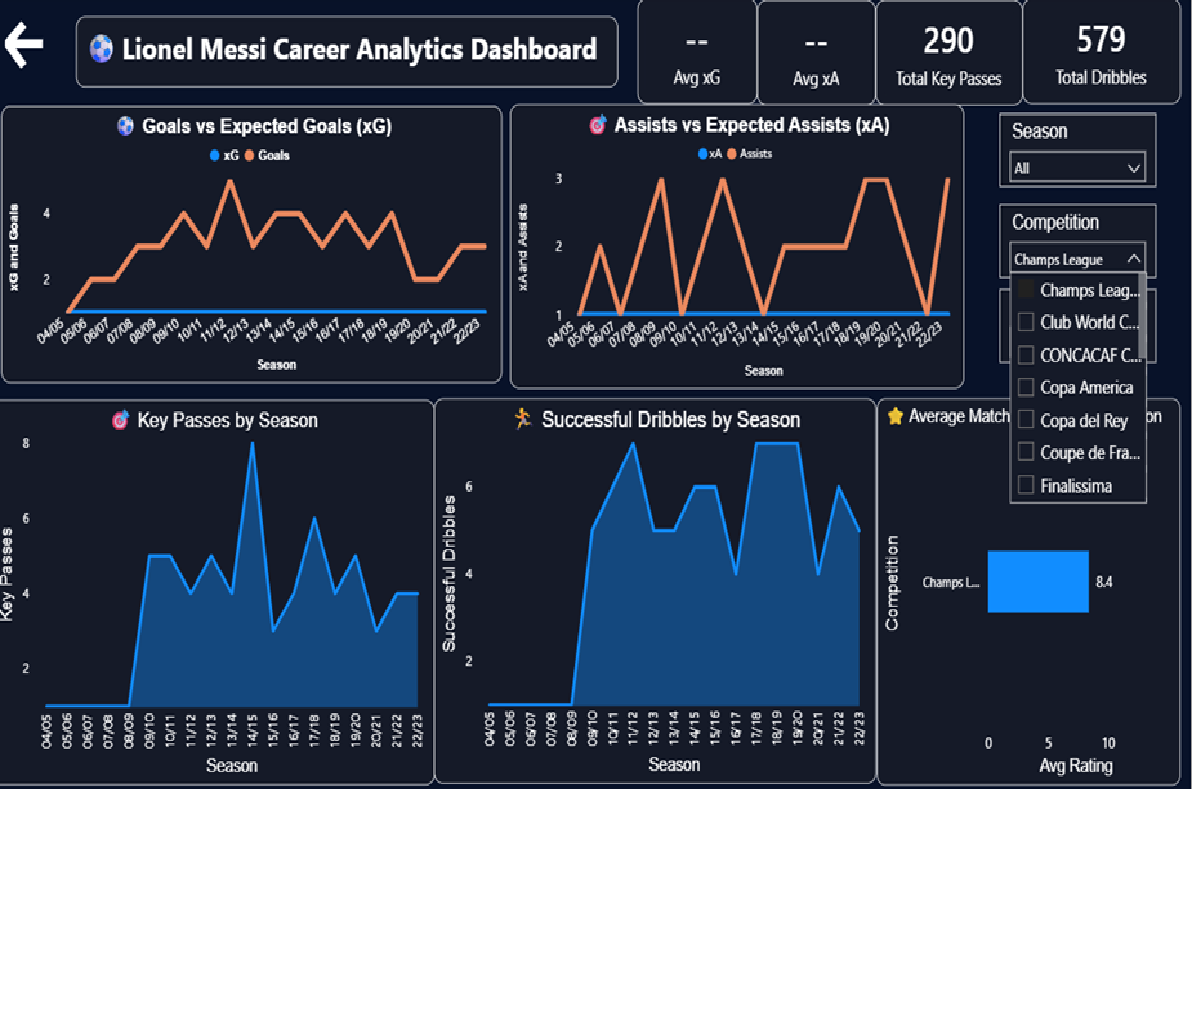

The page's visual inventory and layout, read from the dashboard file:
{"tool":"powerbi","page":{"name":"Page 2","canvas":[1280,720],"ordinal":1},"visuals":[{"type":"cardVisual","fields":{"Data":["leomessi_matches.Avg xG"]},"box":[690.2,2.7,127.6,94.7],"z":0},{"type":"cardVisual","fields":{"Data":["leomessi_matches.Avg xA"]},"box":[817.8,4.1,126.2,94.7],"z":1000},{"type":"cardVisual","fields":{"Data":["leomessi_matches.Total Key Passes"]},"box":[944.1,4.1,156.4,94.7],"z":2000},{"type":"cardVisual","fields":{"Data":["leomessi_matches.Total Dribbles"]},"box":[1100.5,2.7,168.8,94.7],"z":3000},{"type":"lineChart","title":"⚽ Goals vs Expected Goals (xG)","fields":{"Category":["leomessi_matches.Season"],"Y":["Count(leomessi_matches.xG)","Count(leomessi_matches.Goals)"]},"box":[12.3,98.8,533.8,247],"z":4000},{"type":"lineChart","title":"🎯 Assists vs Expected Assists (xA)","fields":{"Category":["leomessi_matches.Season"],"Y":["Count(leomessi_matches.xA)","Count(leomessi_matches.Assists)"]},"box":[554.5,96.9,484.4,253.4],"z":5000},{"type":"areaChart","title":"🎯 Key Passes by Season","fields":{"Category":["leomessi_matches.Season"],"Y":["Count(leomessi_matches.Key Passes)"]},"box":[1.5,360.7,472.5,344.3],"z":6000},{"type":"areaChart","title":"🏃 Successful Dribbles by Season","fields":{"Category":["leomessi_matches.Season"],"Y":["Count(leomessi_matches.Successful Dribbles)"]},"box":[474,359.2,471,344.3],"z":7000},{"type":"clusteredBarChart","title":"⭐ Average Match Rating by Competition","fields":{"Category":["leomessi_matches.Competition"],"Y":["leomessi_matches.Avg Rating"]},"box":[944.9,359.2,323.4,345.8],"z":8000},{"type":"slicer","fields":{"Values":["leomessi_matches.Season"]},"box":[1076.1,105.8,166.9,65.6],"z":9000},{"type":"slicer","fields":{"Values":["leomessi_matches.Competition"]},"box":[1076.1,186.3,166.9,65.6],"z":10000},{"type":"slicer","fields":{"Values":["leomessi_matches.Home/Away"]},"box":[1076.1,262.3,166.9,65.6],"z":11000},{"type":"textbox","box":[91.9,19.2,577.7,63.1],"z":12000},{"type":"actionButton","box":[12.3,19.2,52.1,50.8],"z":13000}]}

Visuals, with their boxes on the page's 1280x720 design canvas (x1, y1, x2, y2). These are canvas units, not pixel positions in the 1198x1011 screenshot, which may show the page scaled, cropped or inside an application window:
cardVisual - leomessi_matches.Avg xG: (left=690, top=3, right=818, bottom=97)
cardVisual - leomessi_matches.Avg xA: (left=818, top=4, right=944, bottom=99)
cardVisual - leomessi_matches.Total Key Passes: (left=944, top=4, right=1100, bottom=99)
cardVisual - leomessi_matches.Total Dribbles: (left=1100, top=3, right=1269, bottom=97)
"⚽ Goals vs Expected Goals (xG)" lineChart: (left=12, top=99, right=546, bottom=346)
"🎯 Assists vs Expected Assists (xA)" lineChart: (left=554, top=97, right=1039, bottom=350)
"🎯 Key Passes by Season" areaChart: (left=2, top=361, right=474, bottom=705)
"🏃 Successful Dribbles by Season" areaChart: (left=474, top=359, right=945, bottom=704)
"⭐ Average Match Rating by Competition" clusteredBarChart: (left=945, top=359, right=1268, bottom=705)
slicer - leomessi_matches.Season: (left=1076, top=106, right=1243, bottom=171)
slicer - leomessi_matches.Competition: (left=1076, top=186, right=1243, bottom=252)
slicer - leomessi_matches.Home/Away: (left=1076, top=262, right=1243, bottom=328)
textbox: (left=92, top=19, right=670, bottom=82)
actionButton: (left=12, top=19, right=64, bottom=70)
